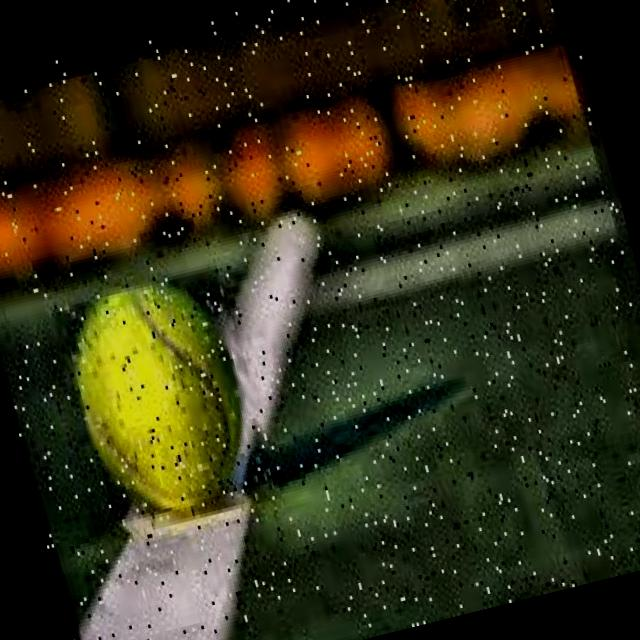tennis-ball: (50, 255, 286, 550)
